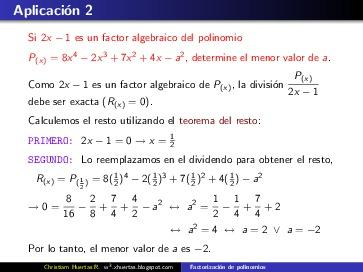paragraph: (20, 28, 352, 259)
title: (10, 1, 100, 22)
